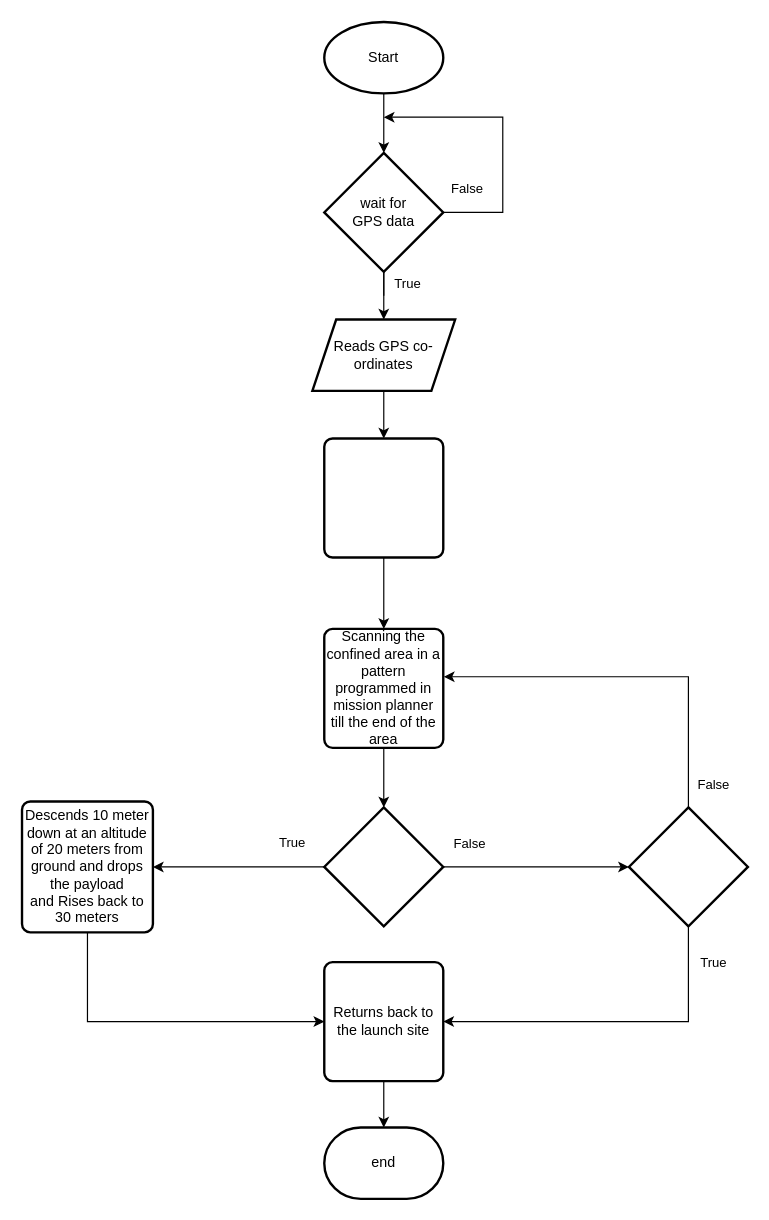
This 769x1220 diagram has some shape labels left out. The centre of each missing label's shape, as x and y in pixels:
"if End of area" belongs at point 688,866.
"if target area found" belongs at point 383,866.
"rises 30 meters above the ground and reaches the closest GPS co-ordinate" belongs at point 383,497.
